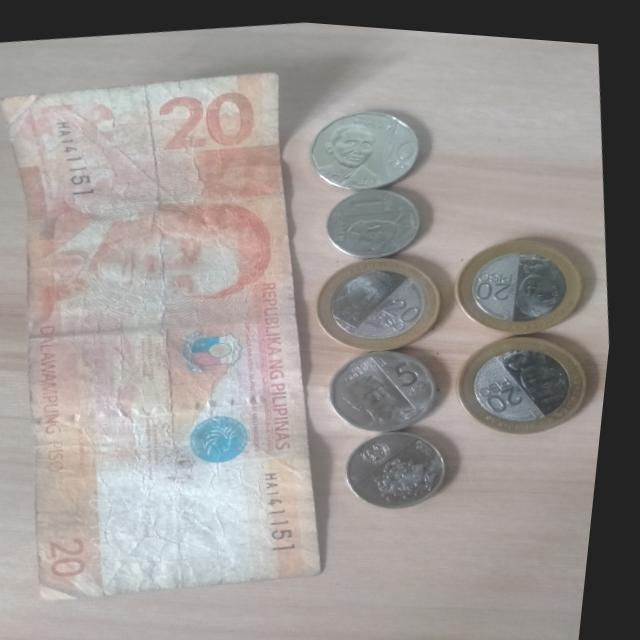1_New_Front: (335, 176, 402, 215)
20_New_Front: (477, 357, 544, 411), (372, 281, 433, 333), (473, 255, 528, 299)
